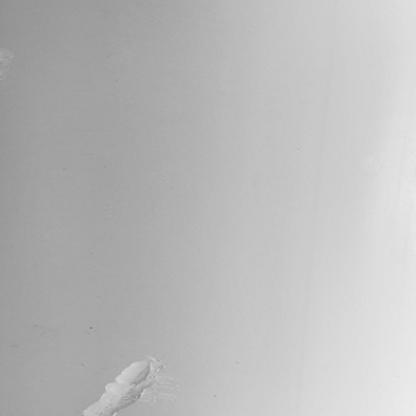sunshang: (71, 346, 170, 416)
